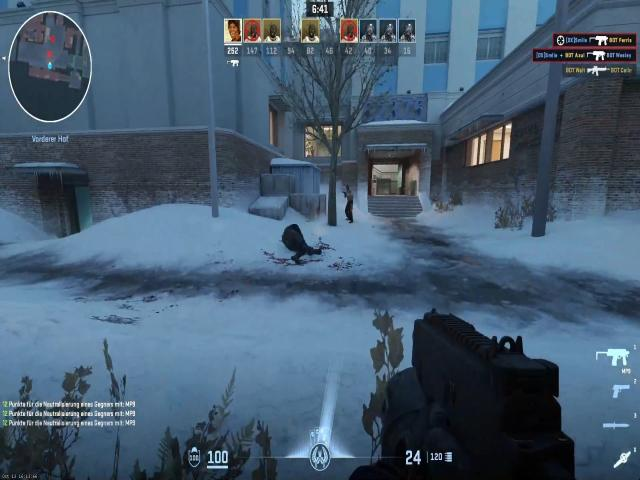Dead: (277, 223, 322, 270)
T: (342, 184, 356, 208)
T-Head: (344, 183, 352, 194)
